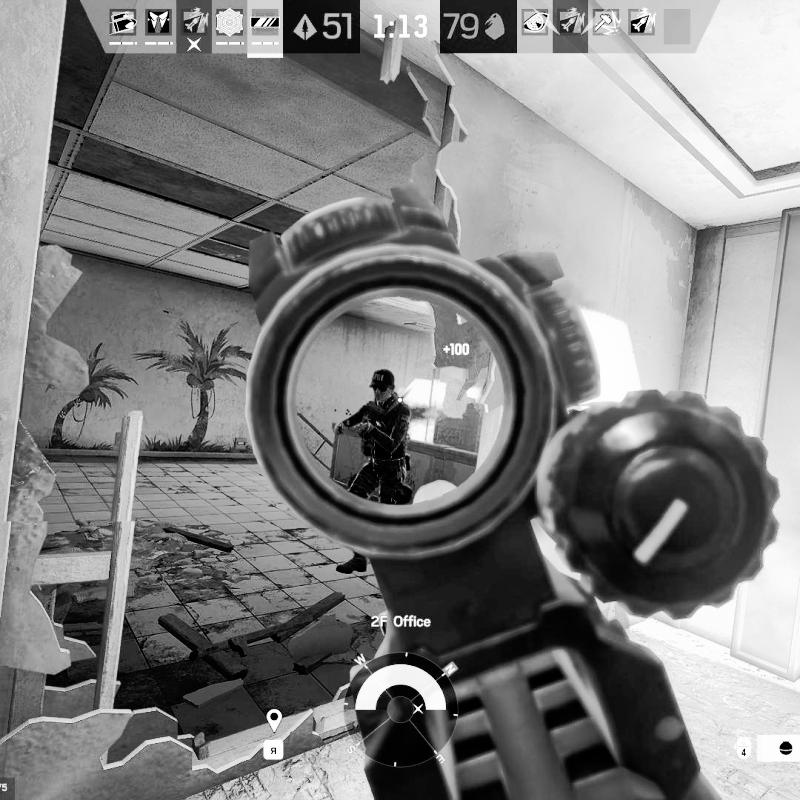Character: (332, 365, 418, 579)
Head: (369, 368, 395, 401)
